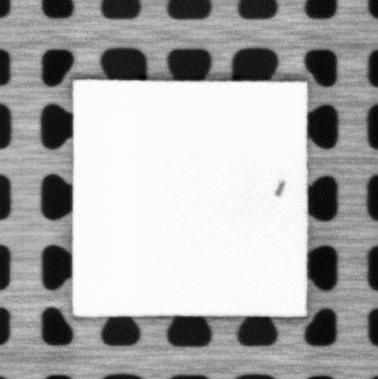DIE_INK: (272, 179, 288, 198)
